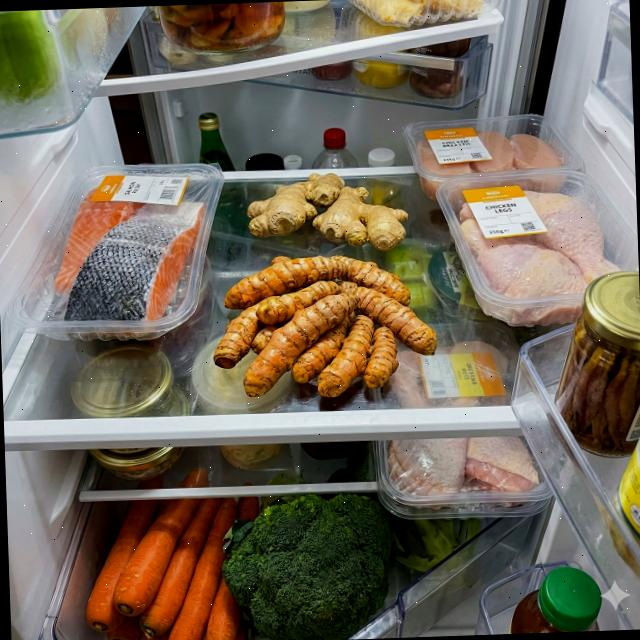brocolli: (219, 491, 395, 640)
carrot: (80, 465, 264, 640)
chicken: (458, 187, 623, 330), (414, 127, 564, 202)
fish: (51, 182, 210, 340), (385, 434, 540, 511)
ginger: (245, 169, 409, 255)
turmeric: (210, 250, 438, 401)
